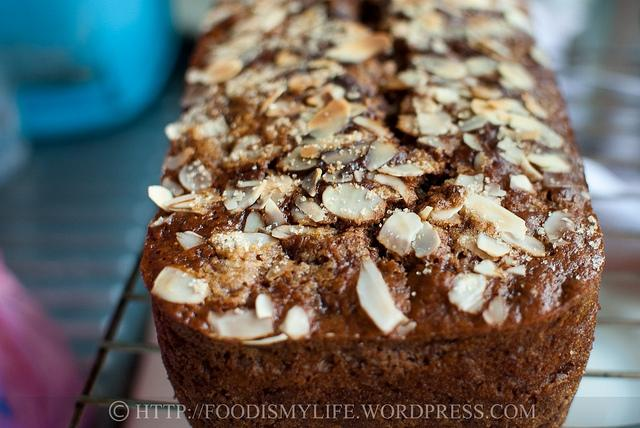almond: (355, 260, 404, 336), (464, 190, 528, 241), (322, 182, 386, 226), (150, 264, 210, 305), (344, 54, 398, 96), (300, 18, 373, 47), (376, 212, 424, 256), (208, 30, 264, 67), (325, 34, 394, 64), (308, 98, 352, 141), (208, 310, 274, 338), (287, 64, 348, 94), (510, 115, 564, 148), (447, 272, 488, 314), (282, 4, 328, 39), (224, 67, 272, 99), (373, 174, 418, 208), (188, 58, 245, 83), (410, 55, 468, 79), (362, 136, 399, 172), (230, 179, 268, 214), (276, 303, 310, 342), (212, 232, 278, 252), (407, 15, 443, 50), (500, 231, 546, 258), (498, 60, 536, 92), (302, 131, 362, 151), (180, 159, 218, 190), (411, 220, 441, 258), (470, 98, 510, 126), (260, 174, 292, 206), (197, 8, 233, 36), (542, 210, 574, 241), (322, 143, 368, 164), (168, 194, 228, 210), (476, 232, 512, 258), (496, 136, 525, 168), (193, 115, 230, 140), (486, 125, 524, 149), (413, 85, 461, 104), (354, 116, 394, 138), (520, 91, 550, 120), (260, 5, 288, 36), (416, 110, 451, 134), (260, 85, 286, 117), (505, 9, 534, 37), (328, 0, 364, 22), (295, 197, 326, 222), (230, 16, 264, 38), (271, 224, 317, 240), (466, 54, 498, 77), (148, 185, 174, 213), (264, 196, 284, 232), (474, 259, 504, 282), (453, 173, 485, 194), (166, 147, 195, 170), (479, 182, 506, 206), (242, 332, 288, 346), (176, 231, 208, 250), (432, 5, 464, 24), (476, 24, 517, 38), (264, 103, 302, 118), (509, 174, 536, 195), (377, 164, 424, 176), (484, 296, 504, 324), (458, 114, 489, 132), (243, 210, 266, 234), (530, 47, 554, 70), (430, 204, 462, 221), (480, 39, 510, 57), (226, 125, 250, 147), (161, 175, 185, 197), (162, 194, 198, 207), (255, 294, 273, 320), (527, 152, 555, 168), (431, 36, 450, 58), (388, 7, 420, 20), (164, 122, 180, 141), (300, 146, 320, 160), (506, 264, 526, 278), (236, 180, 262, 187), (150, 216, 164, 228), (264, 144, 274, 158)
